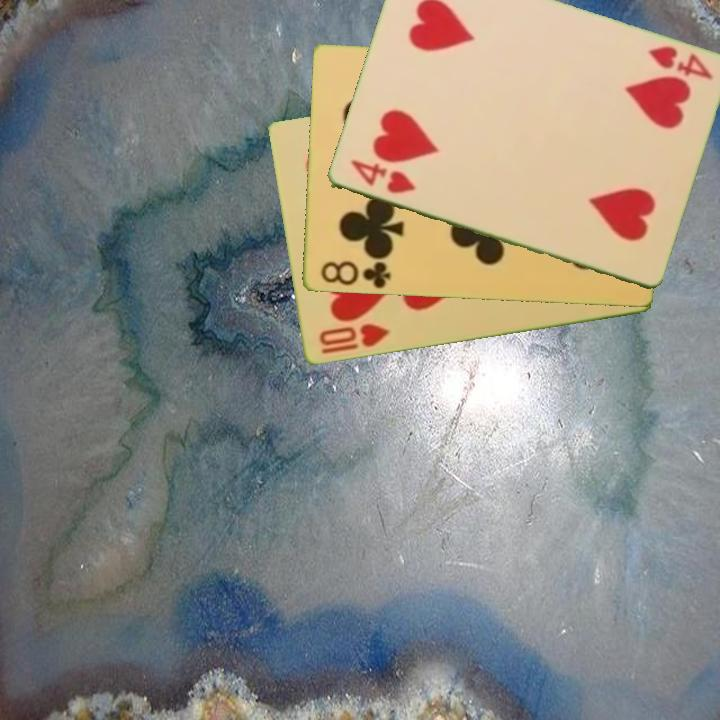10h: (315, 320, 393, 351)
4h: (346, 156, 418, 197), (644, 42, 715, 83)
8c: (317, 256, 393, 291)
